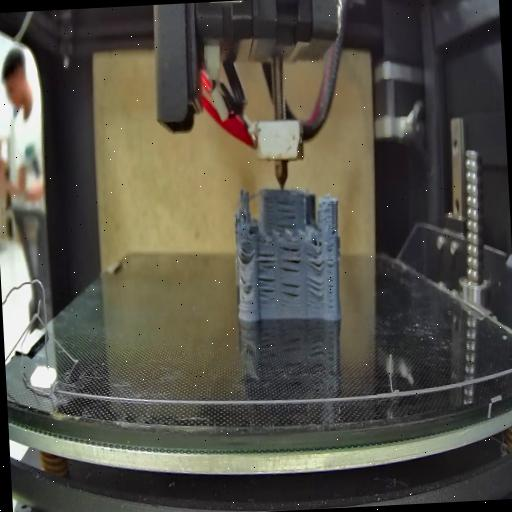cracks: (274, 196, 299, 230), (325, 252, 337, 312), (278, 244, 302, 271), (258, 274, 276, 304), (256, 244, 275, 272), (280, 282, 302, 306), (304, 249, 325, 273), (305, 278, 326, 298), (236, 246, 250, 263), (239, 272, 247, 287), (331, 222, 335, 236)
